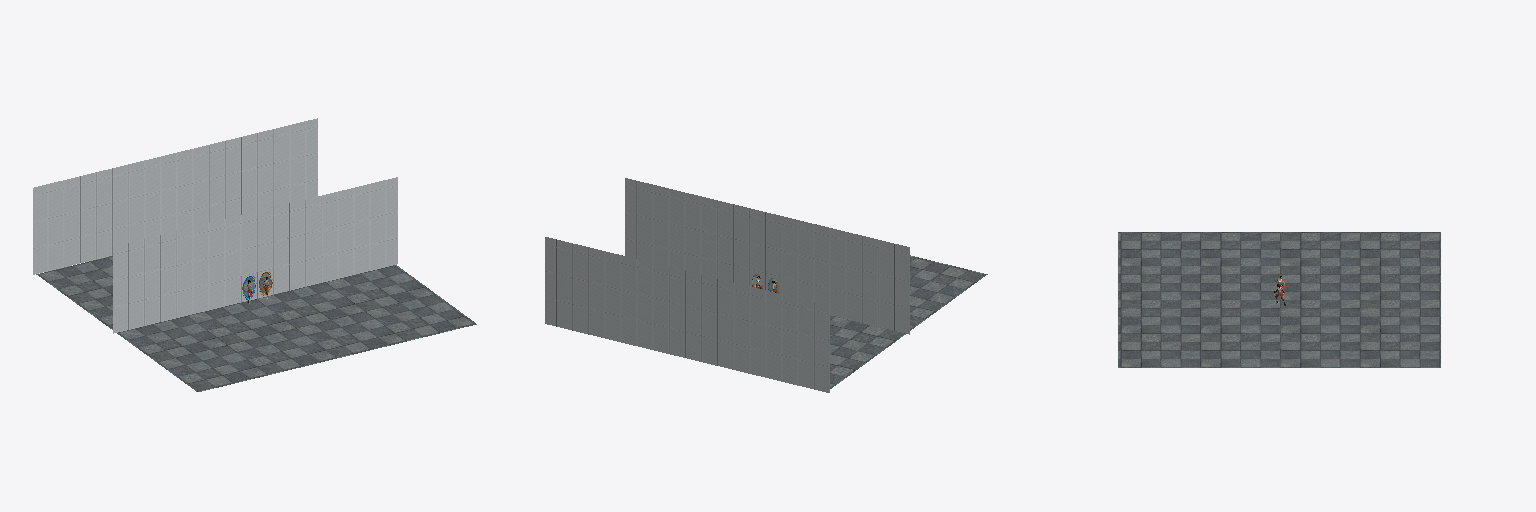
3 views of the same model, side by side, from view 1: azimuth 30°, elevation 25°; view 2: azimuth 150°, elevation 25°; view 3: azimuth 270°, elevation 25° (orthographic).
Parts seen in each view (by area): view 1: Plane001, Plane004, Plane005; view 2: Plane005, Plane004, Plane001; view 3: Plane001.
Part boxes in pixels (x1,y1,x2,y2): Plane001: (36,256,476,391); Plane004: (113,177,397,333); Plane005: (33,118,317,274); Plane005: (545,237,829,392); Plane004: (625,178,909,334); Plane001: (752,255,987,388); Plane001: (1118,232,1440,367).
Size of the model in its own units: 219 by 64.56 by 215.
Materials: 8 (8 with a texture image).